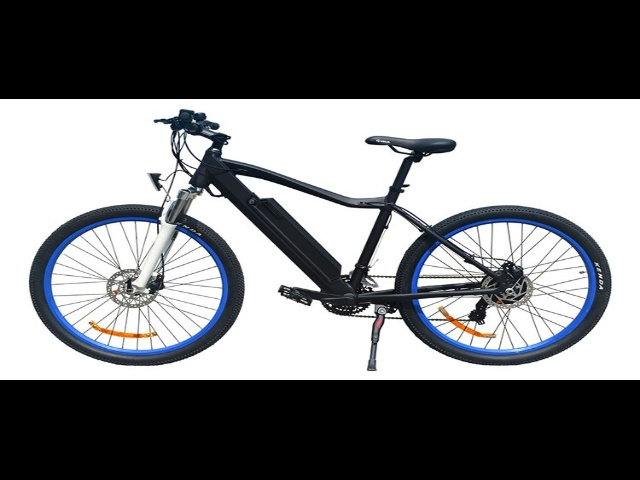bike: (24, 105, 614, 380)
